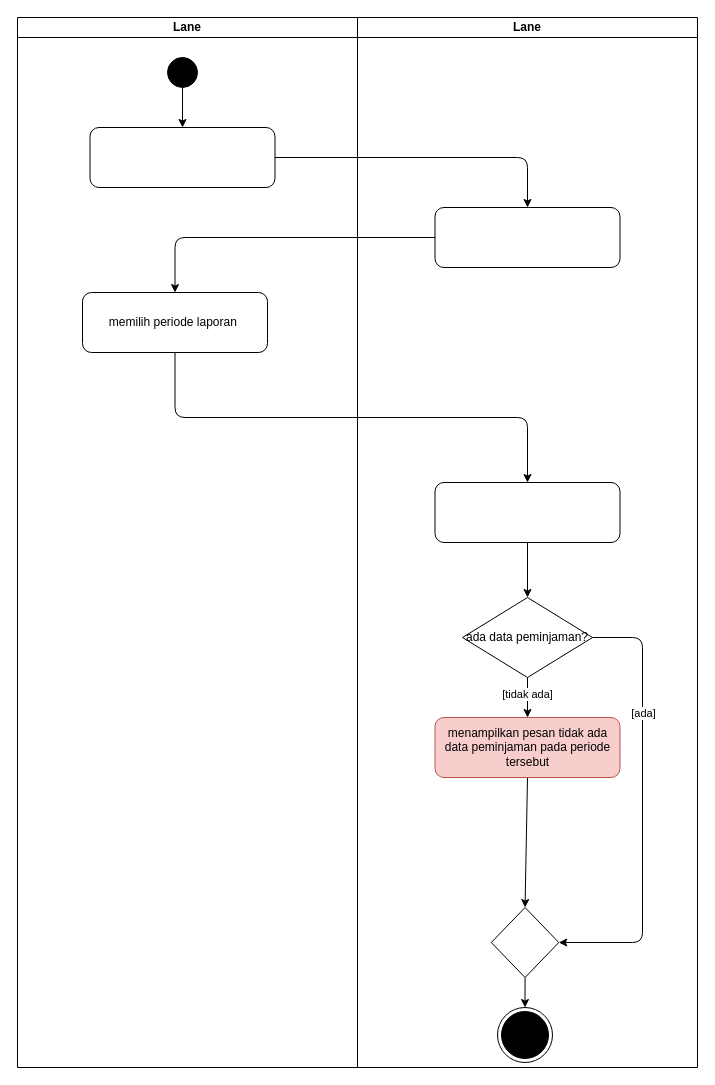
This 715x1085 diagram has some shape labels left out. Here are the shapes that lost their labels. From the top down, the centre of each, then its label:
At (x=182, y=157): "membuka fungsi lihat laporan peminjaman".
At (x=527, y=237): "menampilkan daftar periode laporan".
At (x=527, y=512): "menampilkan laporan peminjaman periode yang dipilih".
